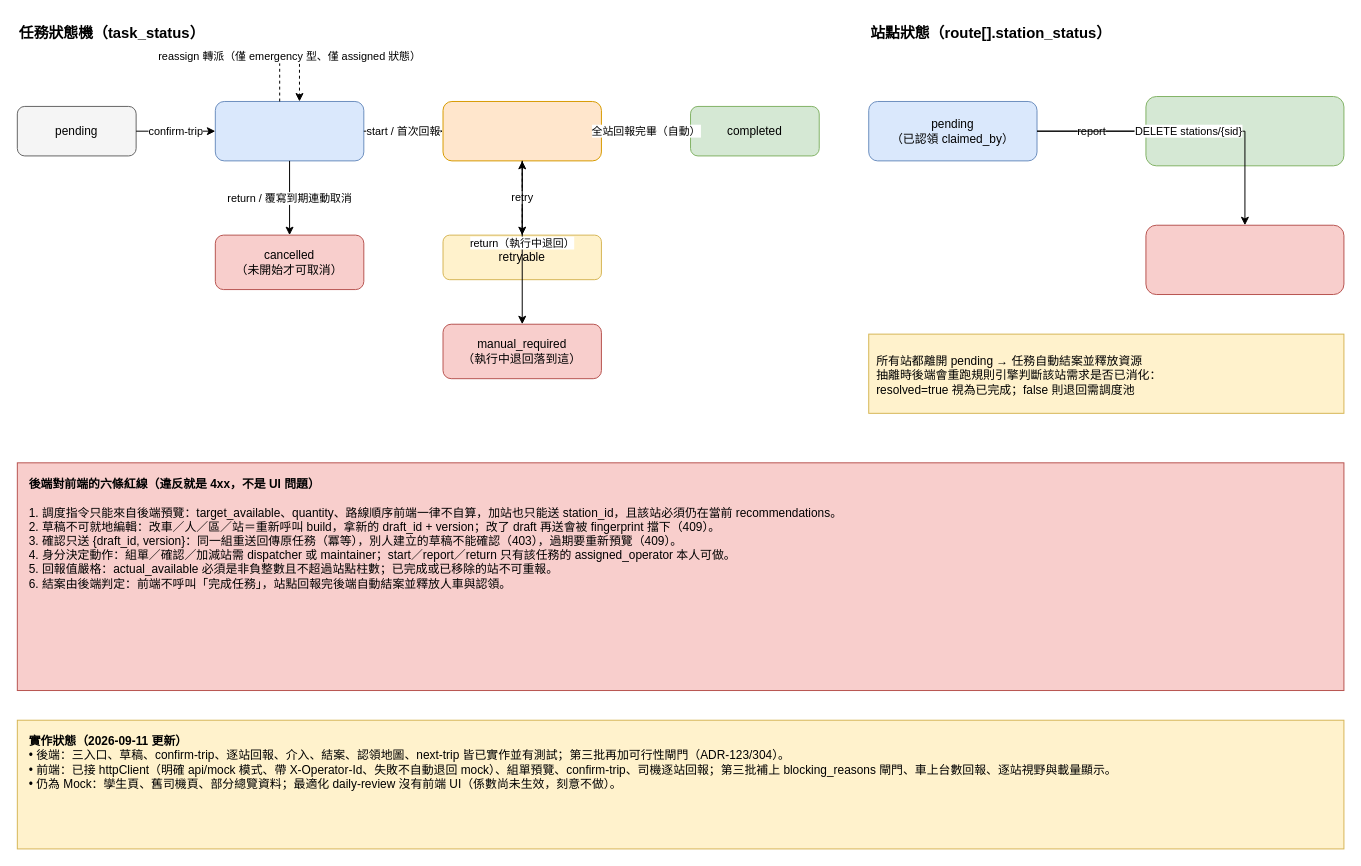
Some shapes in this 1361 by 866 pixel diagram are drawn without their labels. Each missing label, with the box of its shape:
assigned （已確認未開始）: (214, 100, 364, 161)
completed （帶 actual_available / target_gap）: (1145, 96, 1344, 166)
in_progress （鎖定，不可轉派）: (442, 100, 601, 161)
removed （後台抽離，帶 removed_resolved）: (1145, 224, 1344, 295)
